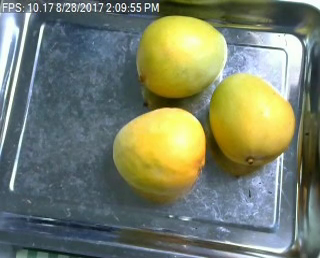Mango: (110, 108, 205, 193), (211, 73, 295, 166), (135, 14, 225, 97)
